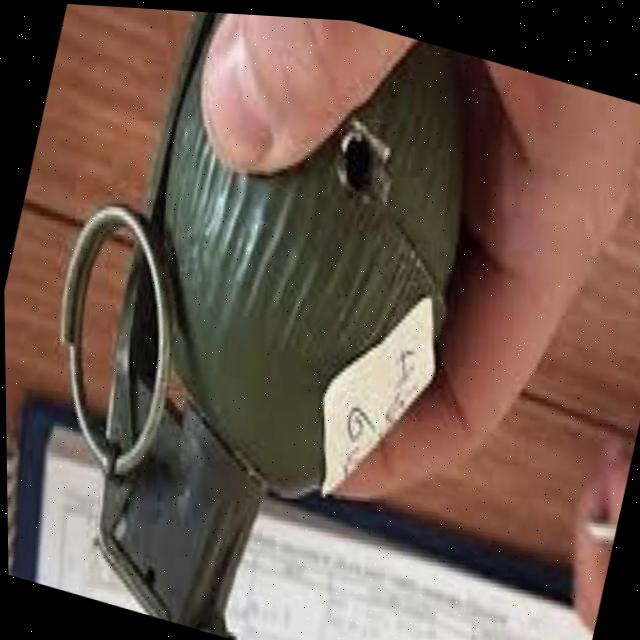grenade: (0, 0, 591, 640)
